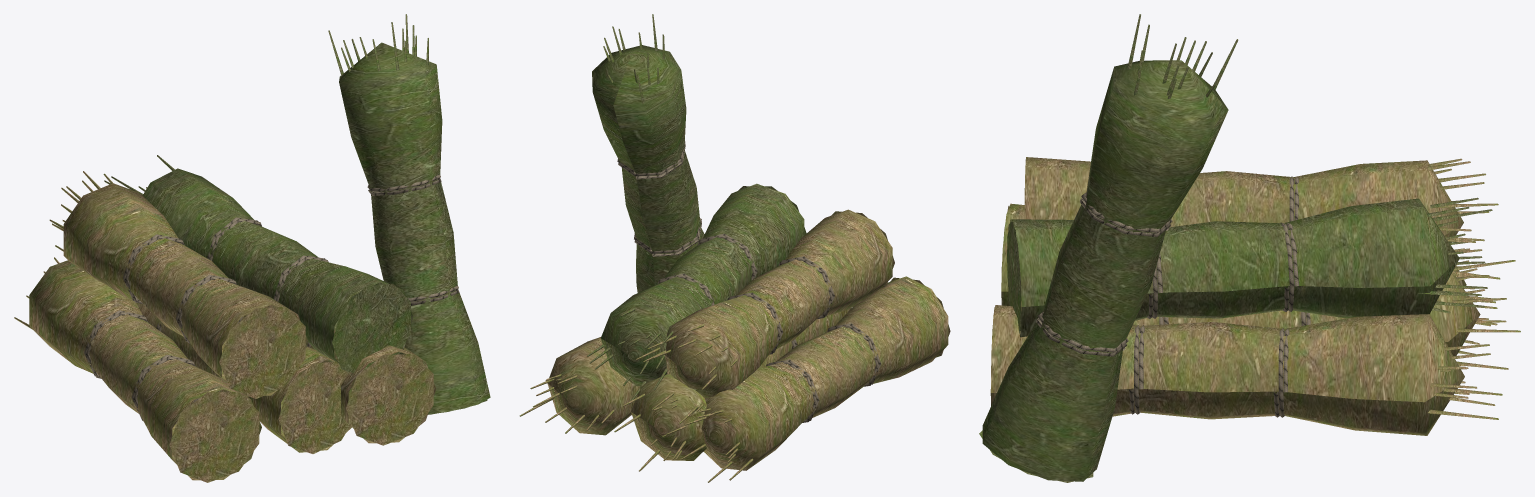
File: th_rush_bundles.glb
3 renders of one model, left to right at view 1: azimuth 30°, elevation 25°; view 2: azimuth 150°, elevation 25°; view 3: azimuth 270°, elevation 25°, orthographic. The views are drawn at different scales.
Visible parts, largest first — view 1: th_rush_bundles; view 2: th_rush_bundles; view 3: th_rush_bundles.
Part boxes in pixels (x1,y1,x2,y2): th_rush_bundles: (14, 14, 490, 482); th_rush_bundles: (519, 14, 950, 482); th_rush_bundles: (979, 14, 1520, 482).
Bounding box in the file's own units: 1.2 × 1.3 × 1.42.
Materials: 1 (1 with a texture image).
